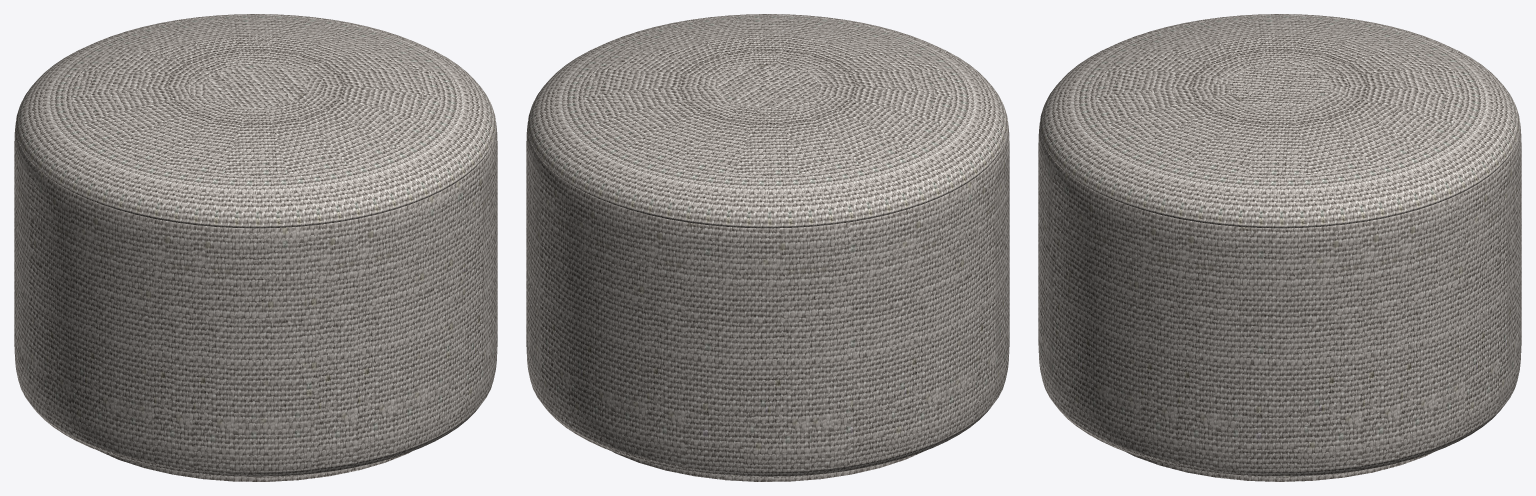
The model's file is pouf.glb.
3 renders of one model, left to right at view 1: azimuth 30°, elevation 25°; view 2: azimuth 150°, elevation 25°; view 3: azimuth 270°, elevation 25°, orthographic.
Visible parts, largest first — view 1: pouf; view 2: pouf; view 3: pouf.
Boxes of the visible parts, <box> form: pouf: <box>14,14,497,481</box>; pouf: <box>526,14,1009,481</box>; pouf: <box>1038,14,1521,481</box>.
Size of the model in its own units: 74.57 by 52.59 by 74.57.
1 material, 1 textured.
